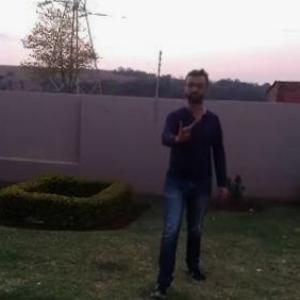takeoff-hand: (170, 106, 201, 142)
